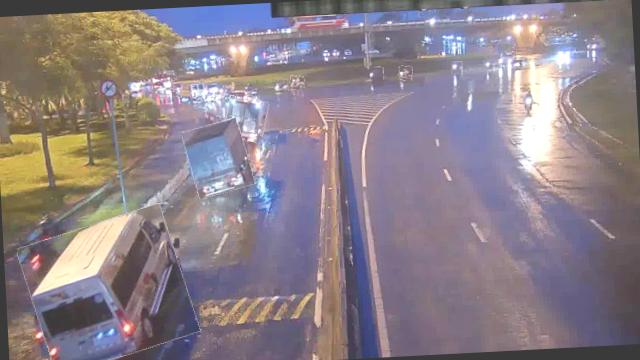Bike: (289, 74, 305, 90), (523, 88, 533, 112), (397, 66, 412, 82), (368, 66, 383, 80), (274, 80, 288, 93), (451, 61, 462, 72)
Bus: (21, 210, 194, 360)
Truck: (184, 119, 252, 196), (222, 96, 267, 142)
